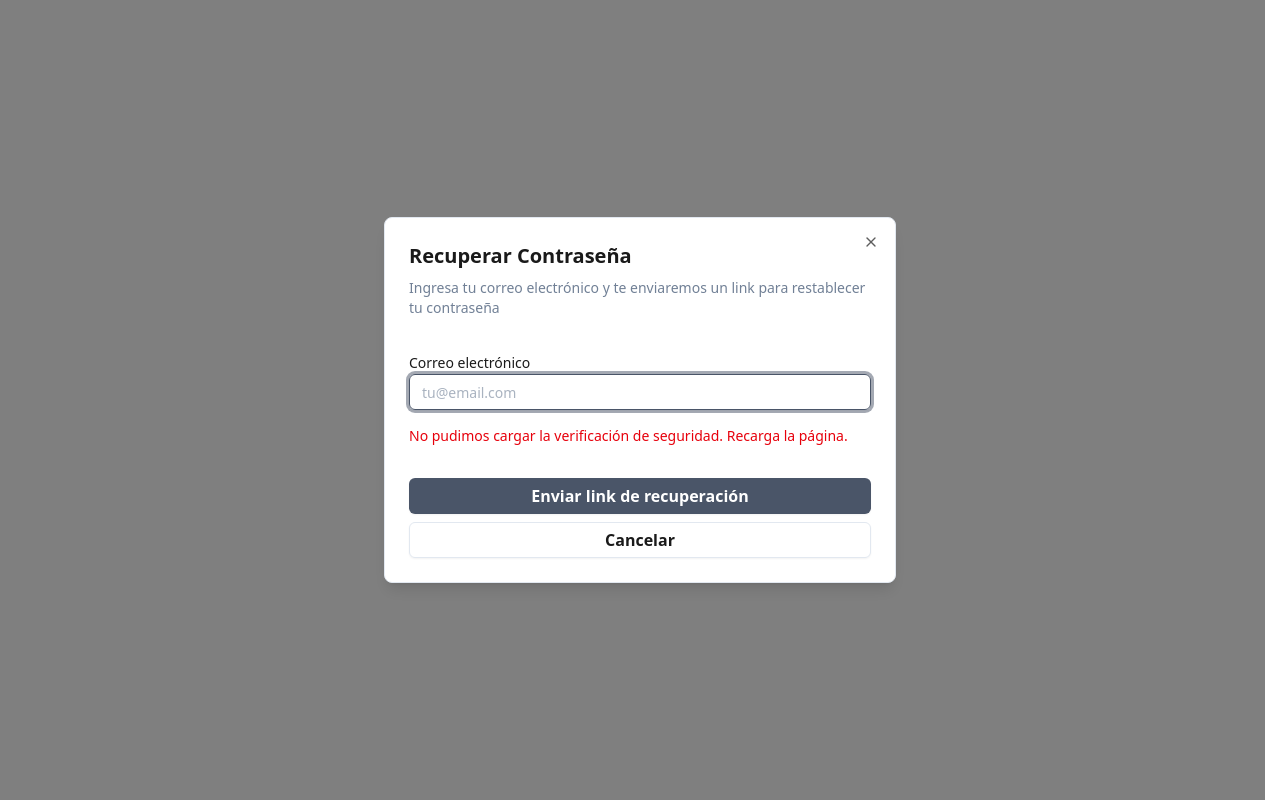
it: PasswordRecoveryDialog › announces the confirmation view as a live region and moves focus to its heading
In the field labelled "Correo electrónico": (640, 392) [409, 374, 871, 410], type "duena@tienda.test"
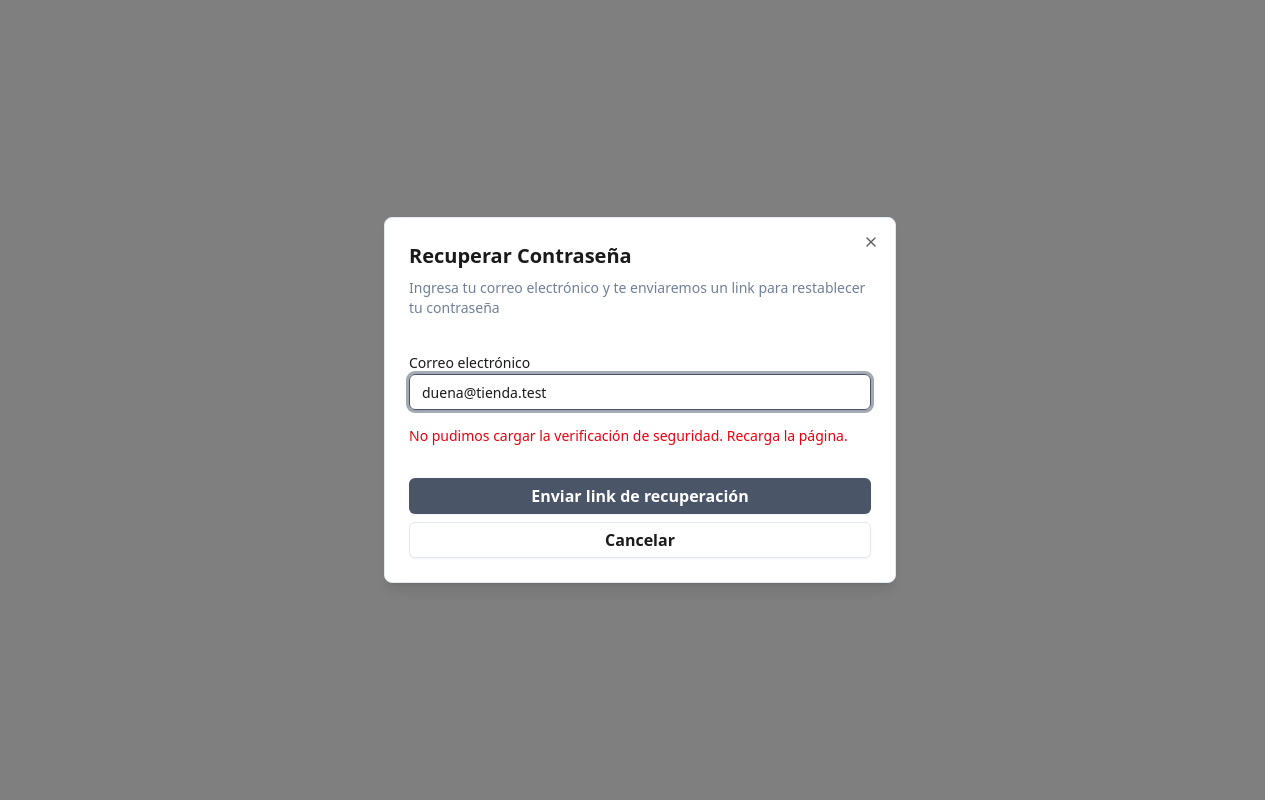
Click the button "Enviar link de recuperación": (640, 496) [409, 478, 871, 514]
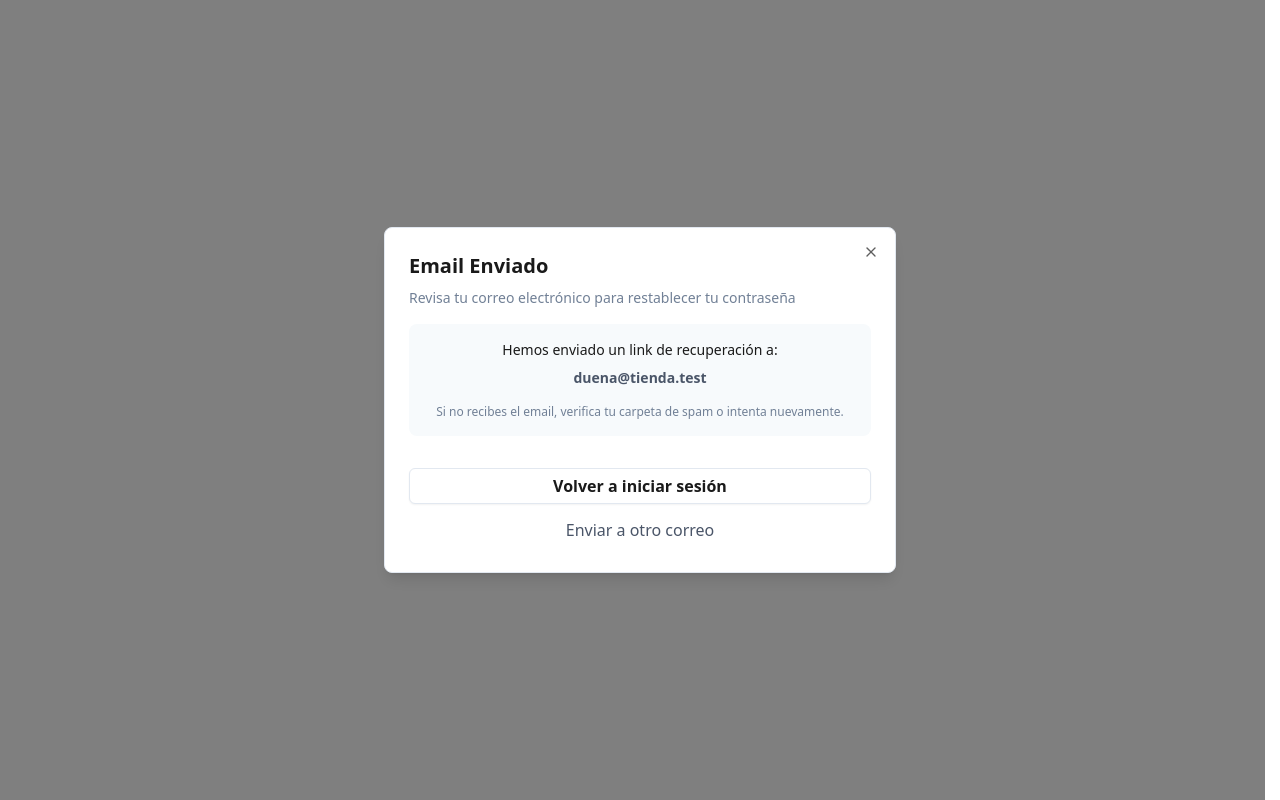
Expected: the message "Email Enviado" is shown, [409, 252, 871, 548]
